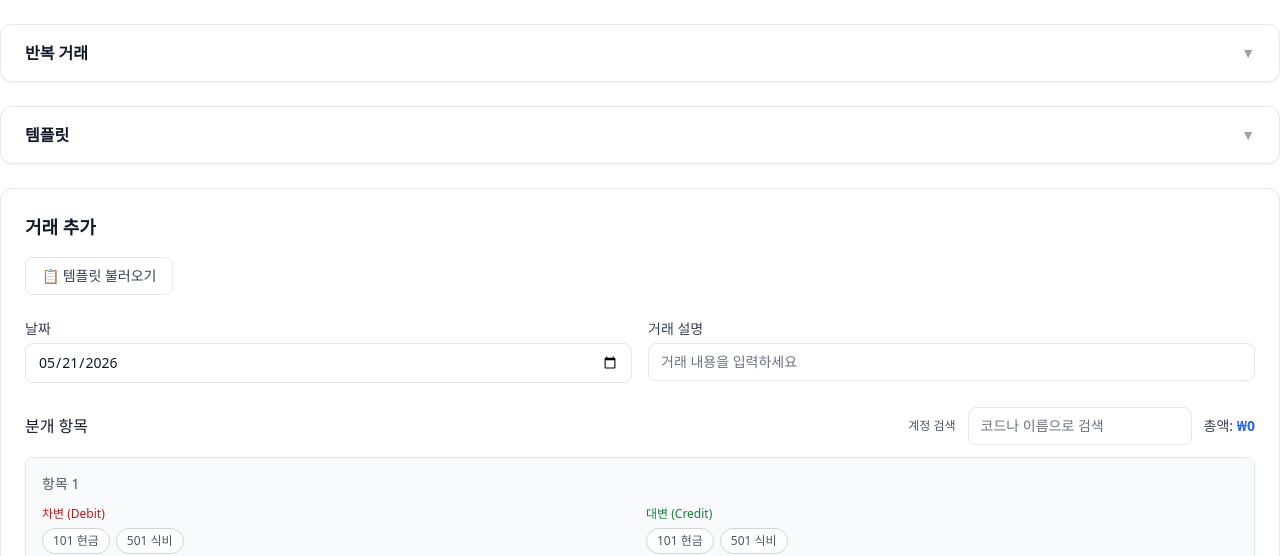
TemplatesTab (템플릿 탭) › 템플릿 목록과 상세에서 외화 금액을 기준 통화로 환산해 표시한다
The image size is (1280, 556).
Click the button "템플릿 ▼".
click(47, 135)  # box [1,107,1279,163]
(page scrolled)
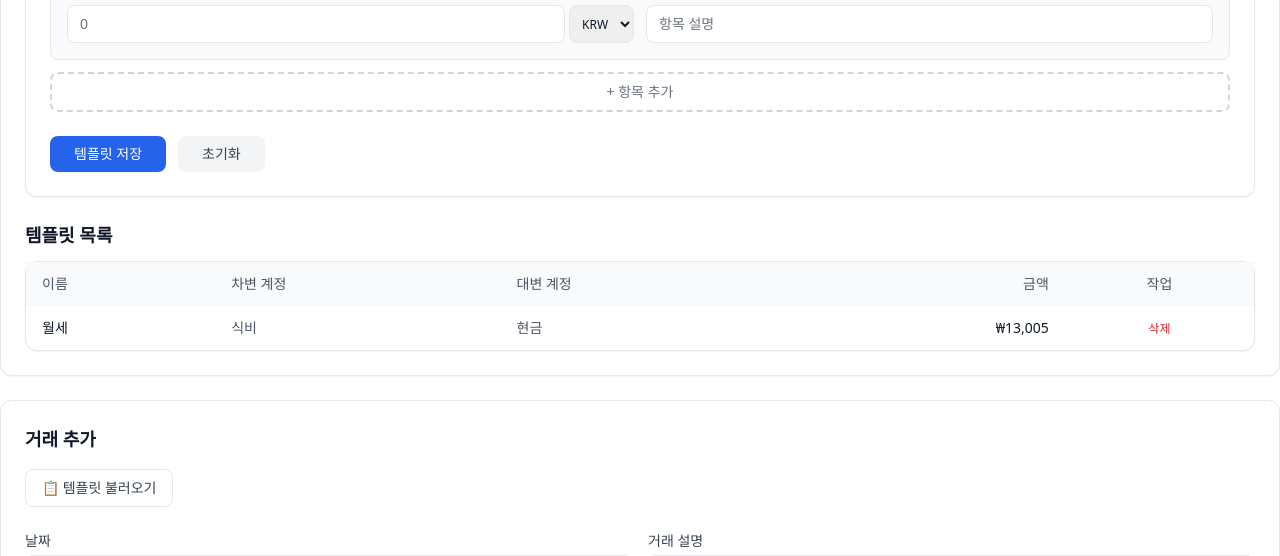
Now the text "₩13,005" is shown, box [786,306,1065,350]
Click the button "월세 식비 현금 ₩13,005 삭제".
click(1022, 328)  # box [26,306,1254,350]
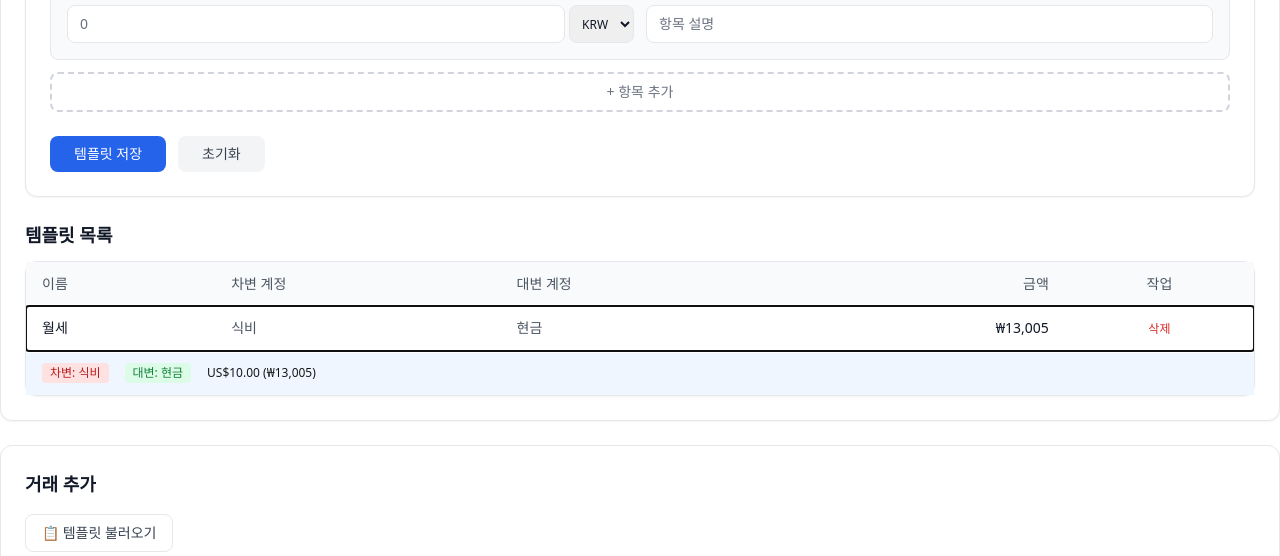
Now the text "US$10.00 (₩13,005)" is shown, box [207,365,316,381]
